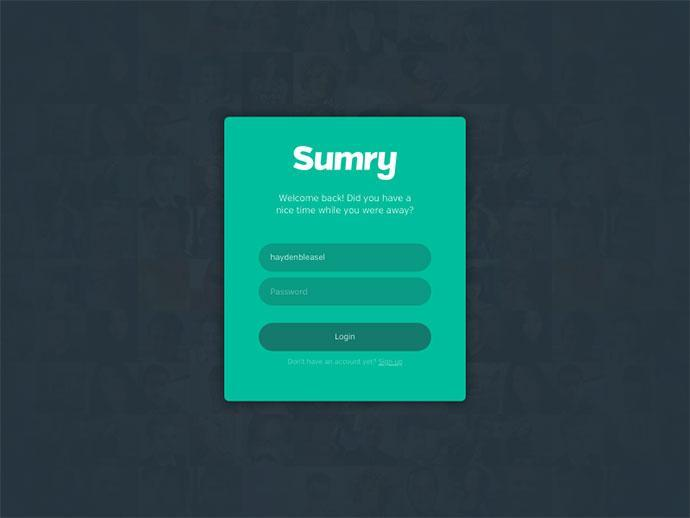button: (260, 324, 431, 352)
input: (260, 243, 431, 274), (261, 278, 433, 306)
